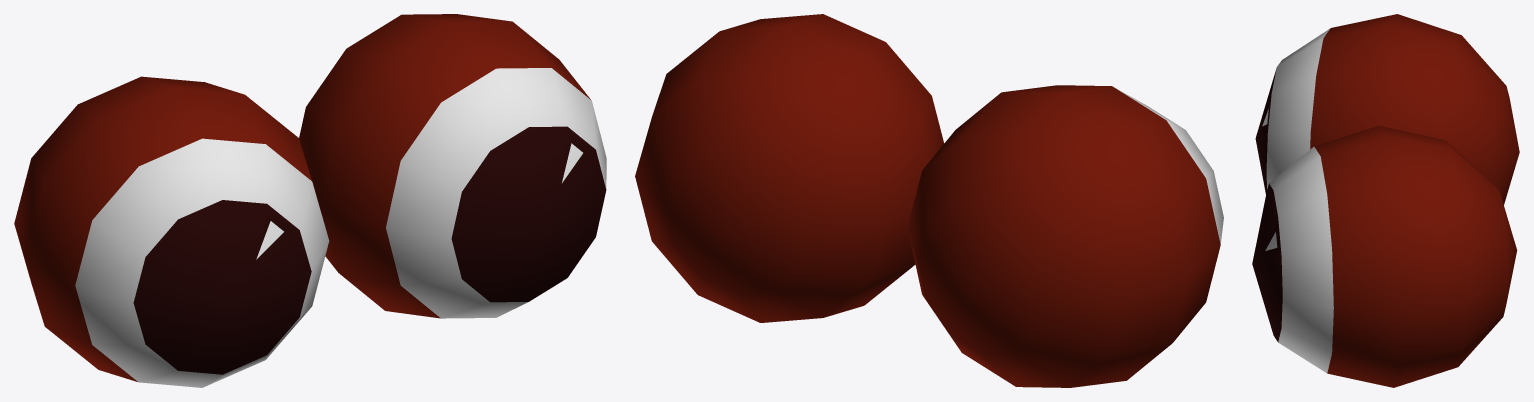
The model's file is Eyes_Nerd.glb.
3 renders of one model, left to right at view 1: azimuth 30°, elevation 25°; view 2: azimuth 150°, elevation 25°; view 3: azimuth 270°, elevation 25°, orthographic. The views are drawn at different scales.
Parts seen in each view (by area): view 1: Eyes_Nerd; view 2: Eyes_Nerd; view 3: Eyes_Nerd.
Boxes of the visible parts, x1,y1,x2,y2 form: Eyes_Nerd: [14, 14, 606, 387]; Eyes_Nerd: [635, 14, 1223, 387]; Eyes_Nerd: [1252, 14, 1519, 387].
Bounding box in the file's own units: 0.3908 × 0.196 × 0.1988.
1 material, 1 textured.
